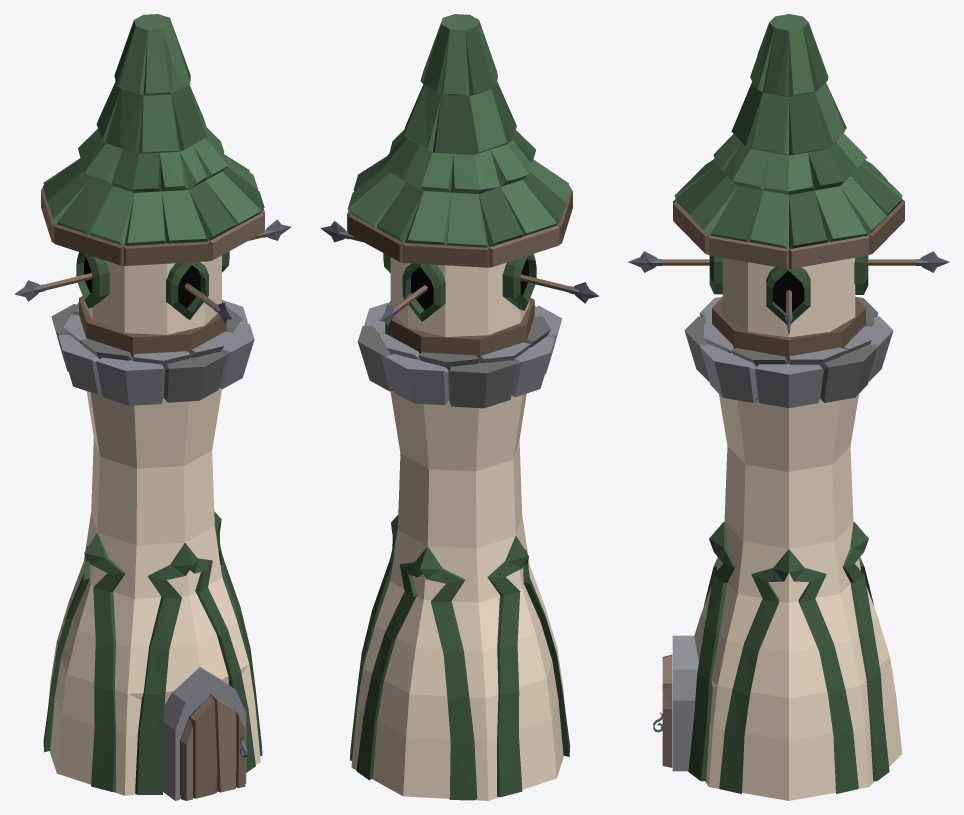
The model's file is Archer_Tower.gltf.
The picture shows the model from 3 angles, left to right: view 1: azimuth 30°, elevation 25°; view 2: azimuth 150°, elevation 25°; view 3: azimuth 270°, elevation 25°; orthographic projection.
Visible parts, largest first — view 1: archer_tower_LVL_1; view 2: archer_tower_LVL_1; view 3: archer_tower_LVL_1.
Part boxes in pixels (left/top/right/bottom): archer_tower_LVL_1: left=14, top=14, right=291, bottom=800; archer_tower_LVL_1: left=320, top=14, right=599, bottom=800; archer_tower_LVL_1: left=628, top=14, right=949, bottom=800.
Bounding box in the file's own units: 2.98 × 7.47 × 2.98.
1 material, 1 textured.
